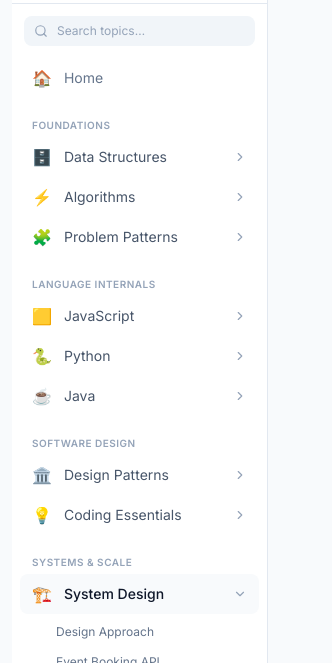
Test: sidebar section navigation › navigates the section title to its overview page
This screenshot has width=332, height=663.
Step 1. Click the link titled "Open System Design overview" → (98, 594), box top-left (32, 584), bottom-right (164, 604)
(page scrolled)
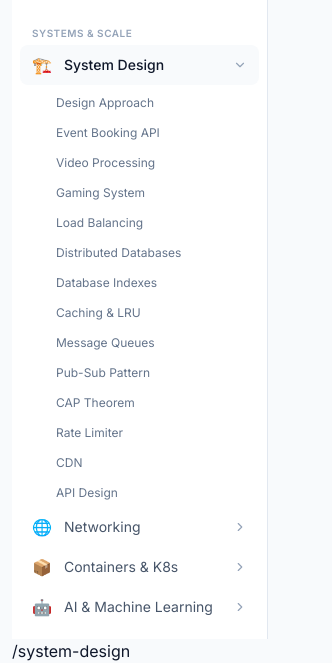
Check: the text named "Current path" reads "/system-design", box top-left (12, 641), bottom-right (130, 661)
